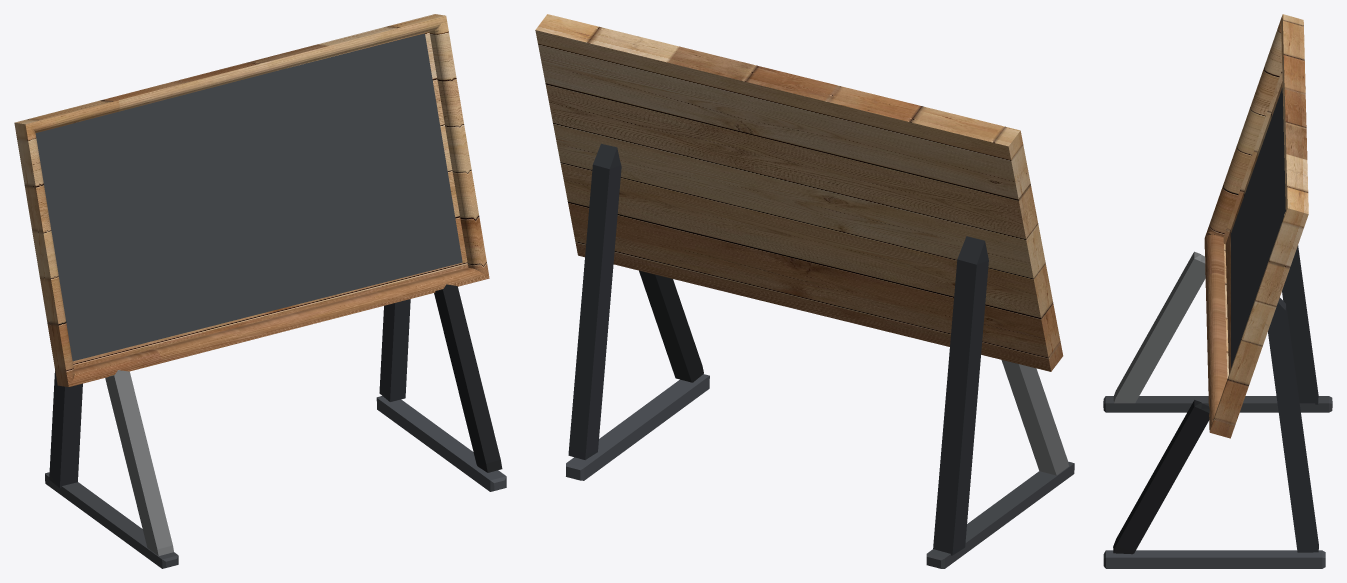
File: gonggaolan.fbx
3 renders of one model, left to right at view 1: azimuth 30°, elevation 25°; view 2: azimuth 150°, elevation 25°; view 3: azimuth 270°, elevation 25°, orthographic. The views are drawn at different scales.
Parts seen in each view (by area): view 1: 立方体.020; view 2: 立方体.020; view 3: 立方体.020.
Boxes of the visible parts, x1,y1,x2,y2 form: 立方体.020: [14, 14, 506, 568]; 立方体.020: [535, 14, 1074, 568]; 立方体.020: [1103, 14, 1332, 568].
Bounding box in the file's own units: 418 × 370 × 203.
Materials: 7 (1 with a texture image).
